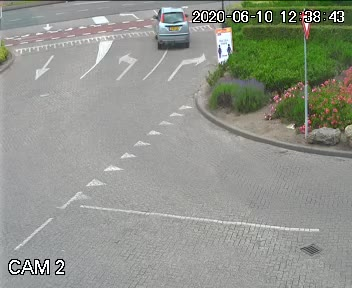car: (154, 5, 190, 54)
